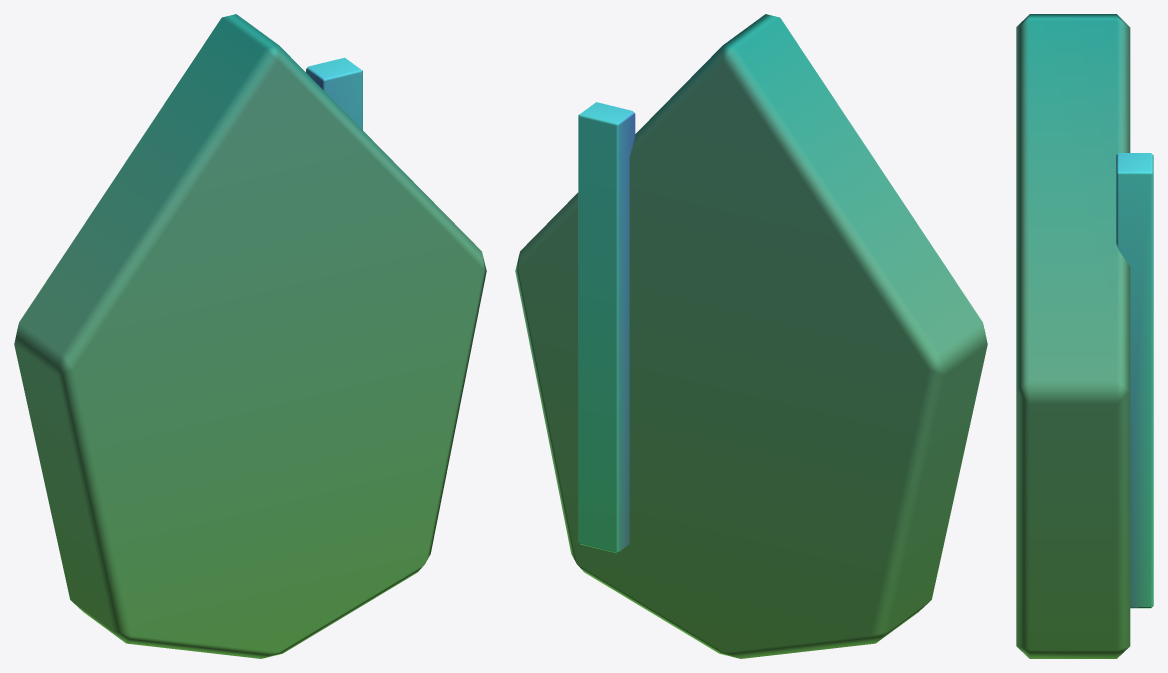
The model's file is kit_boss_core_door_r.glb.
The picture shows the model from 3 angles, left to right: view 1: azimuth 30°, elevation 25°; view 2: azimuth 150°, elevation 25°; view 3: azimuth 270°, elevation 25°; orthographic projection.
Visible parts, largest first — view 1: Body__armor, Body__emit_core; view 2: Body__armor, Body__emit_core; view 3: Body__armor, Body__emit_core.
Boxes of the visible parts, bbox=[...] form: Body__armor: bbox=[14, 14, 486, 658]; Body__emit_core: bbox=[306, 57, 362, 129]; Body__armor: bbox=[515, 14, 987, 658]; Body__emit_core: bbox=[578, 102, 635, 553]; Body__armor: bbox=[1016, 14, 1130, 658]; Body__emit_core: bbox=[1116, 153, 1153, 608].
Bounding box in the file's own units: 0.3757 × 0.5091 × 0.1025.
